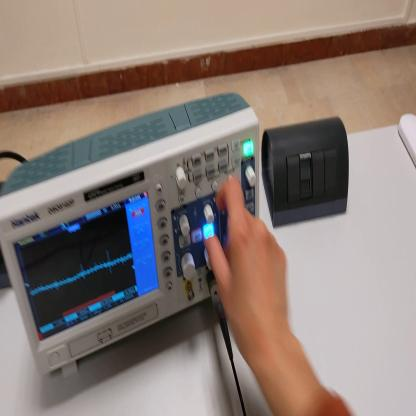hand: (203, 174, 291, 360)
oscilloscope: (1, 89, 260, 377)
socket: (2, 251, 14, 289)
